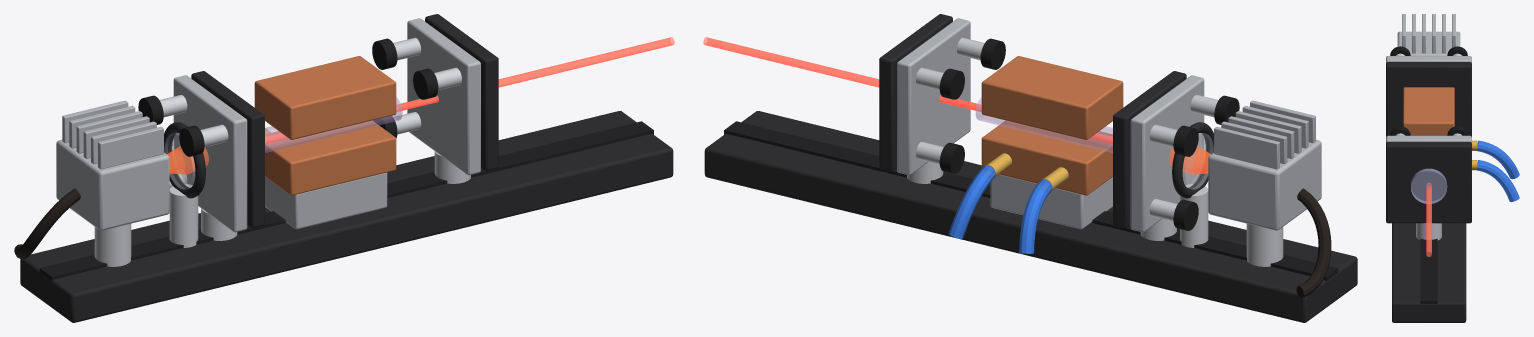
Rendered from cavite.glb.
3 renders of one model, left to right at view 1: azimuth 30°, elevation 25°; view 2: azimuth 150°, elevation 25°; view 3: azimuth 270°, elevation 25°, orthographic. The views are drawn at different scales.
Parts seen in each view (by area): view 1: rail, bloc_cuivre_haut, coupleur_plaque, pompe_corps, bloc_cuivre_bas, miroir_hr_plaque, rail_rainure, bloc_socle, coupleur_plaque_av, miroir_hr_plaque_av, pompe_ailette_0, beam_sortie (+20 smaller); view 2: rail, bloc_cuivre_haut, coupleur_plaque, pompe_corps, bloc_cuivre_bas, miroir_hr_plaque, rail_rainure, bloc_socle, coupleur_plaque_av, miroir_hr_plaque_av, pompe_ailette_5, pompe_cable (+29 smaller); view 3: coupleur_plaque_av, rail, miroir_hr_plaque_av, bloc_cuivre_haut, rail_rainure, coupleur_optique, pompe_corps, tuyau_eau_2, coupleur_plaque, tuyau_eau_1, miroir_hr_plaque, beam_sortie (+11 smaller).
Part boxes in pixels (x1,y1,x2,y2): rail: (20,111,673,322); bloc_cuivre_haut: (254,56,396,139); coupleur_plaque: (407,18,480,175); pompe_corps: (56,139,169,230); bloc_cuivre_bas: (265,120,396,195); miroir_hr_plaque: (173,75,247,232); rail_rainure: (39,121,653,281); bloc_socle: (265,172,387,229); coupleur_plaque_av: (425,14,498,170); miroir_hr_plaque_av: (191,71,264,227); pompe_ailette_0: (98,126,163,169); beam_sortie: (498,37,674,87); rail: (704,111,1357,322); bloc_cuivre_haut: (981,56,1123,139); coupleur_plaque: (897,18,970,175); pompe_corps: (1208,139,1321,230); bloc_cuivre_bas: (981,120,1112,195); miroir_hr_plaque: (1130,75,1204,232); rail_rainure: (724,121,1338,281); bloc_socle: (990,174,1112,229); coupleur_plaque_av: (879,14,952,170); miroir_hr_plaque_av: (1113,71,1186,227); pompe_ailette_5: (1214,126,1279,169); pompe_cable: (1296,188,1331,297); coupleur_plaque_av: (1386,142,1471,223); rail: (1392,223,1466,322); miroir_hr_plaque_av: (1386,62,1471,136); bloc_cuivre_haut: (1403,87,1454,135); rail_rainure: (1420,238,1437,303); coupleur_optique: (1411,168,1447,203); pompe_corps: (1397,31,1460,55); tuyau_eau_2: (1477,160,1519,201); coupleur_plaque: (1386,135,1471,142); tuyau_eau_1: (1477,140,1519,179); miroir_hr_plaque: (1386,56,1471,63); beam_sortie: (1426,184,1431,256).
Bounding box in the file's own units: 180 × 45 × 46.77.
